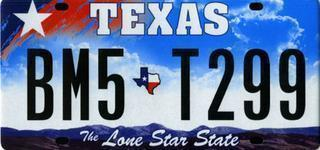placa de veiculo: (3, 1, 314, 149)
